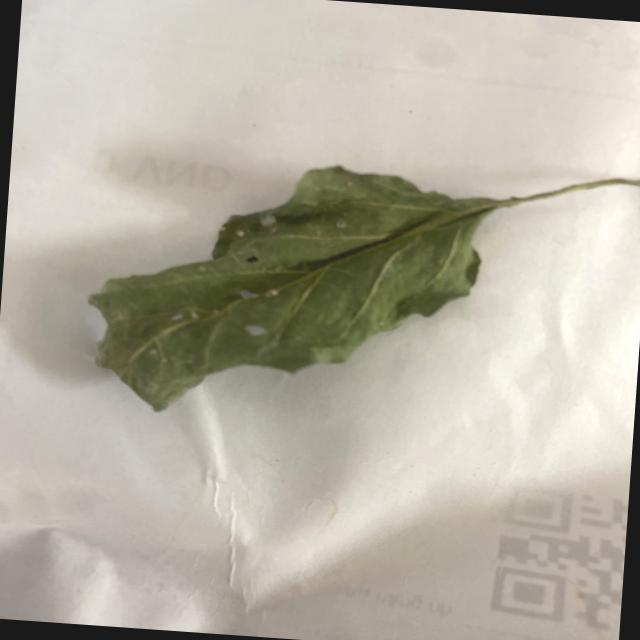Leaf: (74, 145, 489, 434)
